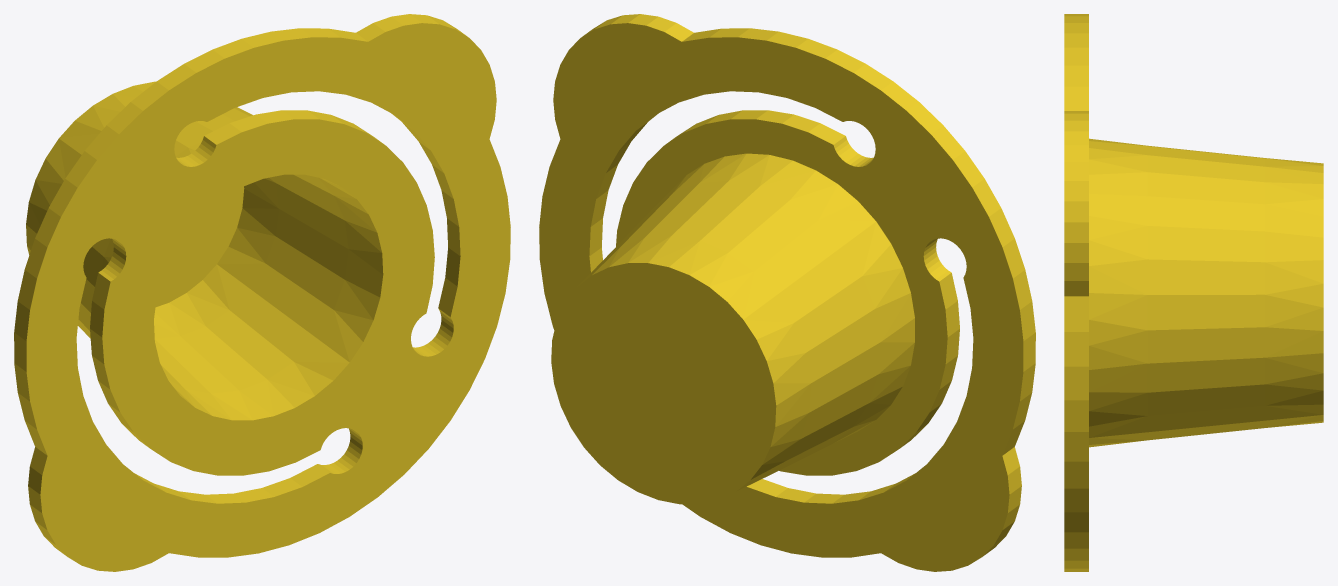
3 renders of one model, left to right at view 1: azimuth 30°, elevation 25°; view 2: azimuth 150°, elevation 25°; view 3: azimuth 270°, elevation 25°, orthographic.
Visible parts, largest first — view 1: 10287439; view 2: 10287439; view 3: 10287439.
Part boxes in pixels (box(x1,y1,x2,y2)): 10287439: box(14, 14, 510, 571); 10287439: box(539, 14, 1035, 571); 10287439: box(1064, 14, 1323, 571).
Size of the model in its own units: 1 by 1 by 0.4652.
